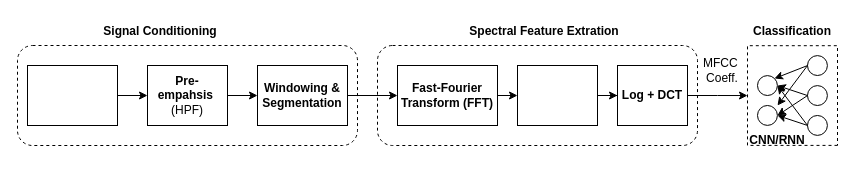
The diagram is 855 pixels wide and 173 high, and some of its shapes have lost their labels. Each missing label, with the centre of its shape:
"Mel Filtering" belongs at point (557, 95).
"Raw Data (Heart Sound)" belongs at point (72, 95).
